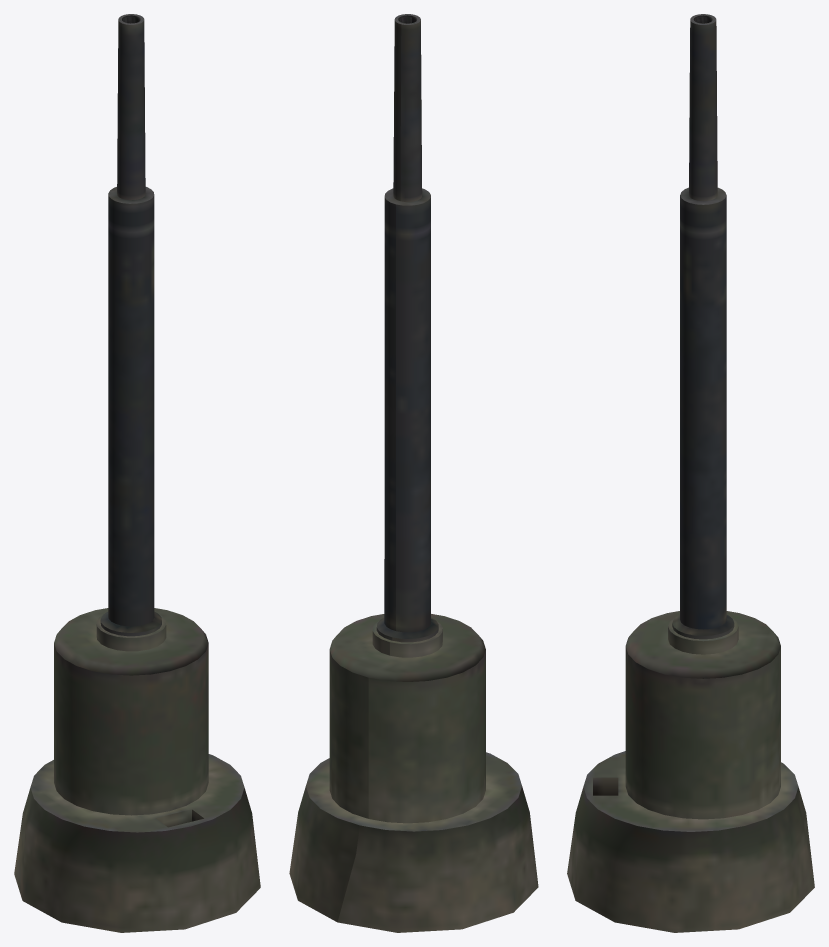
File: Gun_02.glb
The picture shows the model from 3 angles, left to right: view 1: azimuth 30°, elevation 25°; view 2: azimuth 150°, elevation 25°; view 3: azimuth 270°, elevation 25°; orthographic projection.
Visible parts, largest first — view 1: set_0_group_0; view 2: set_0_group_0; view 3: set_0_group_0.
Boxes of the visible parts, x1,y1,x2,y2 form: set_0_group_0: (14,14,260,932); set_0_group_0: (289,14,538,932); set_0_group_0: (567,14,814,932).
Size of the model in its own units: 0.2925 by 1.12 by 0.2925.
Materials: 1 (1 with a texture image).
